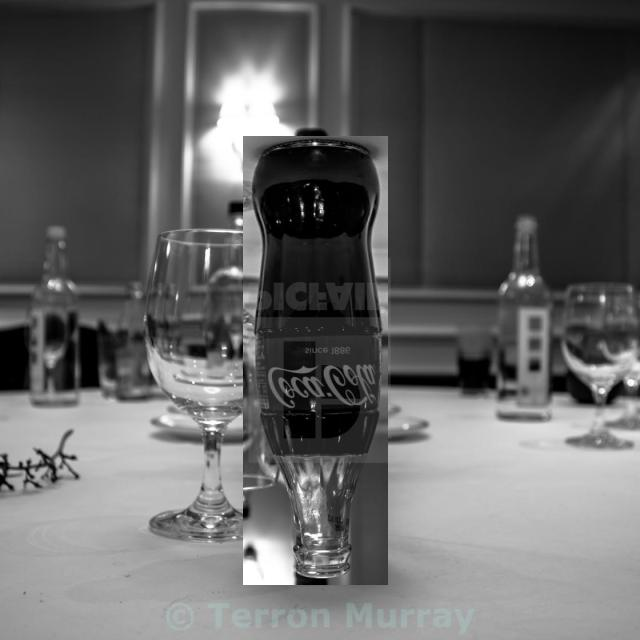coca-cola: (243, 136, 388, 585)
